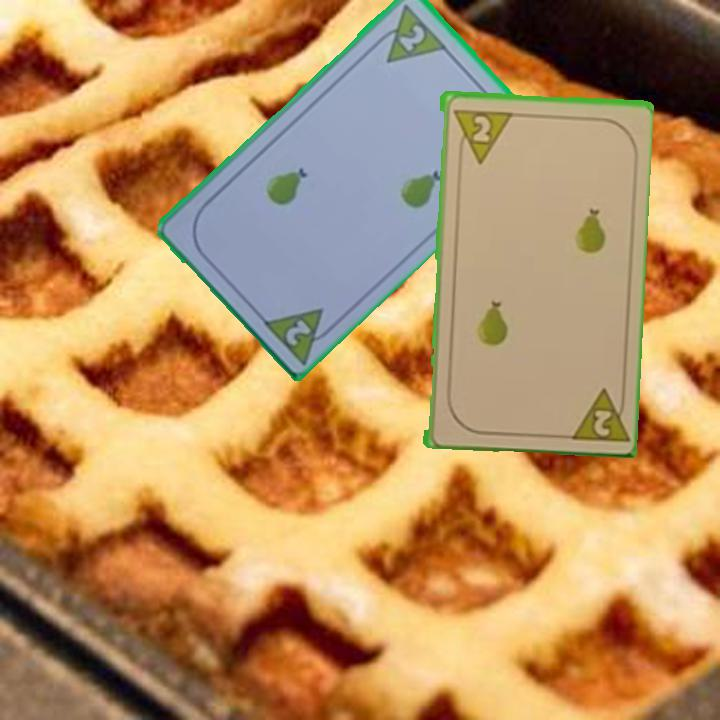2p: (258, 303, 341, 366), (563, 384, 629, 445), (449, 105, 512, 166), (394, 20, 428, 54)
